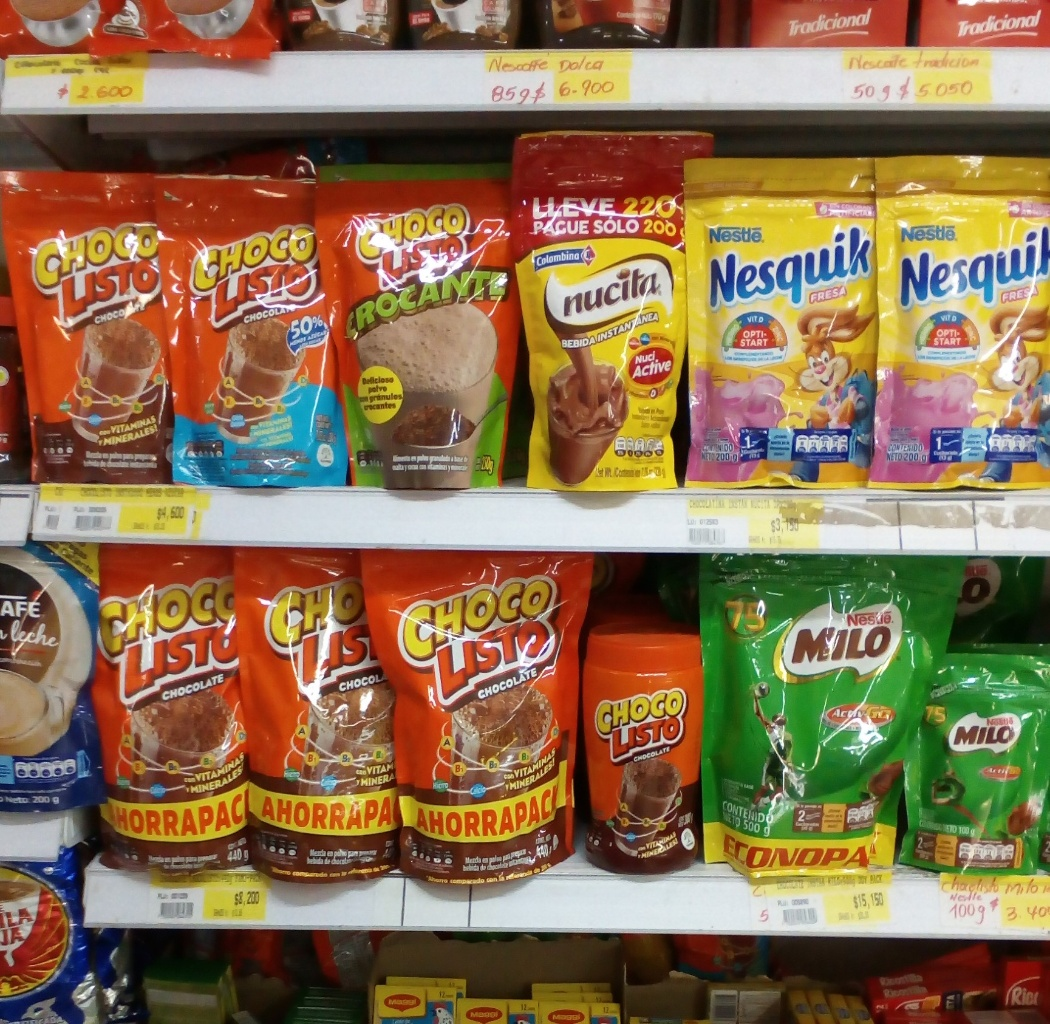COL0170102DYP25000: (318, 148, 519, 495)
COL0170103DYP44000: (86, 547, 251, 874)
COL0170103TRR30000: (577, 614, 710, 874)
COL0170104DYP20000: (146, 145, 341, 489)
COL0170203DYP10000: (900, 641, 1042, 871)
COL0170203DYP50000: (703, 556, 968, 883)
COL0170305DYP20000: (680, 156, 873, 491)
